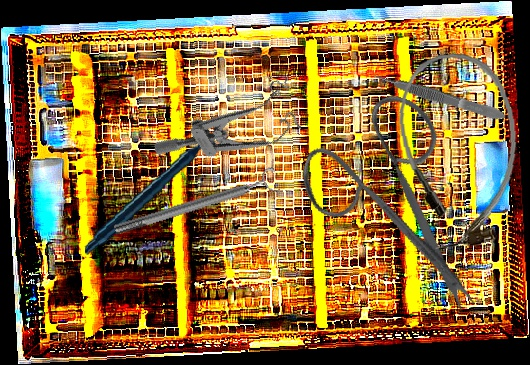Cannula: (392, 49, 527, 252)
Fixation Ring: (110, 165, 282, 243)
Handpiece: (73, 127, 241, 255)
Iris Scissors: (276, 75, 530, 317)
Speculum: (151, 64, 315, 202)
Tissue Forceps: (371, 68, 507, 124)
